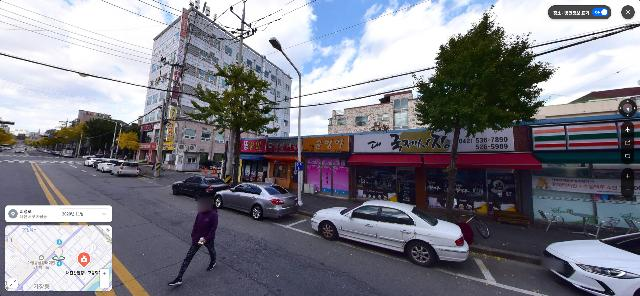ginkgo: (115, 130, 139, 160)
other: (412, 8, 560, 224), (188, 52, 281, 186)
